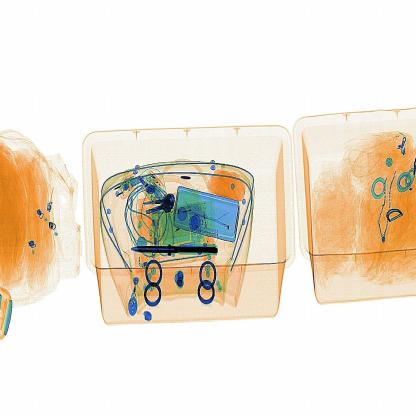gun: (131, 238, 228, 261)
